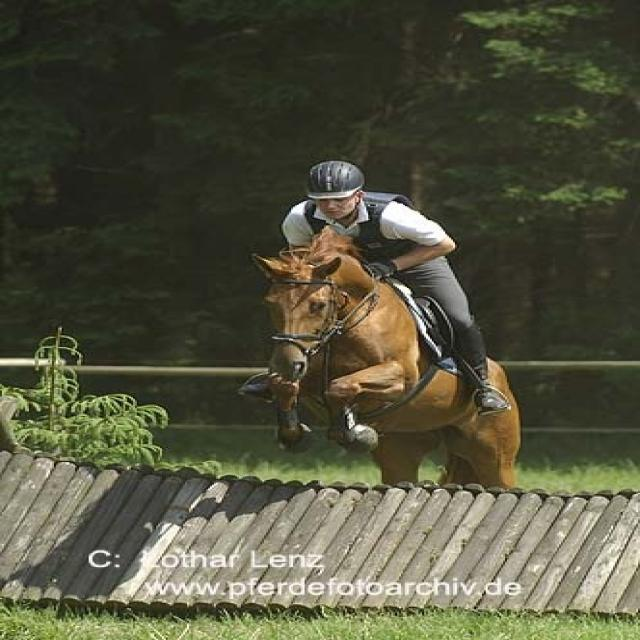horse: (251, 229, 518, 489)
